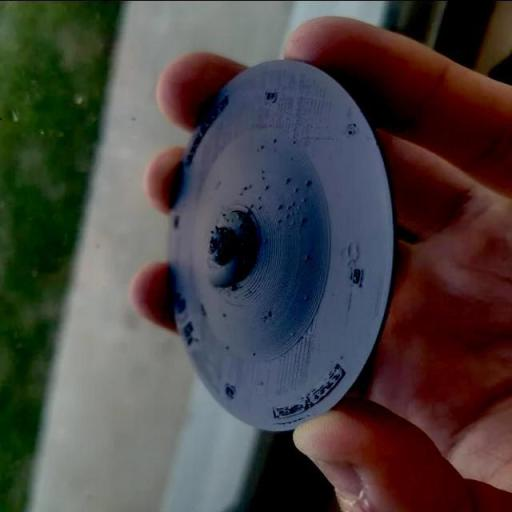blobs: (304, 177, 312, 190), (261, 183, 271, 193), (240, 214, 250, 224), (228, 283, 239, 292), (241, 182, 249, 193), (283, 176, 291, 186), (303, 252, 311, 262), (276, 215, 283, 226), (299, 215, 307, 224), (303, 294, 310, 304), (277, 201, 283, 212), (292, 185, 299, 194), (271, 137, 278, 145), (248, 201, 255, 209), (265, 311, 273, 317), (260, 175, 266, 183), (259, 144, 266, 150)
